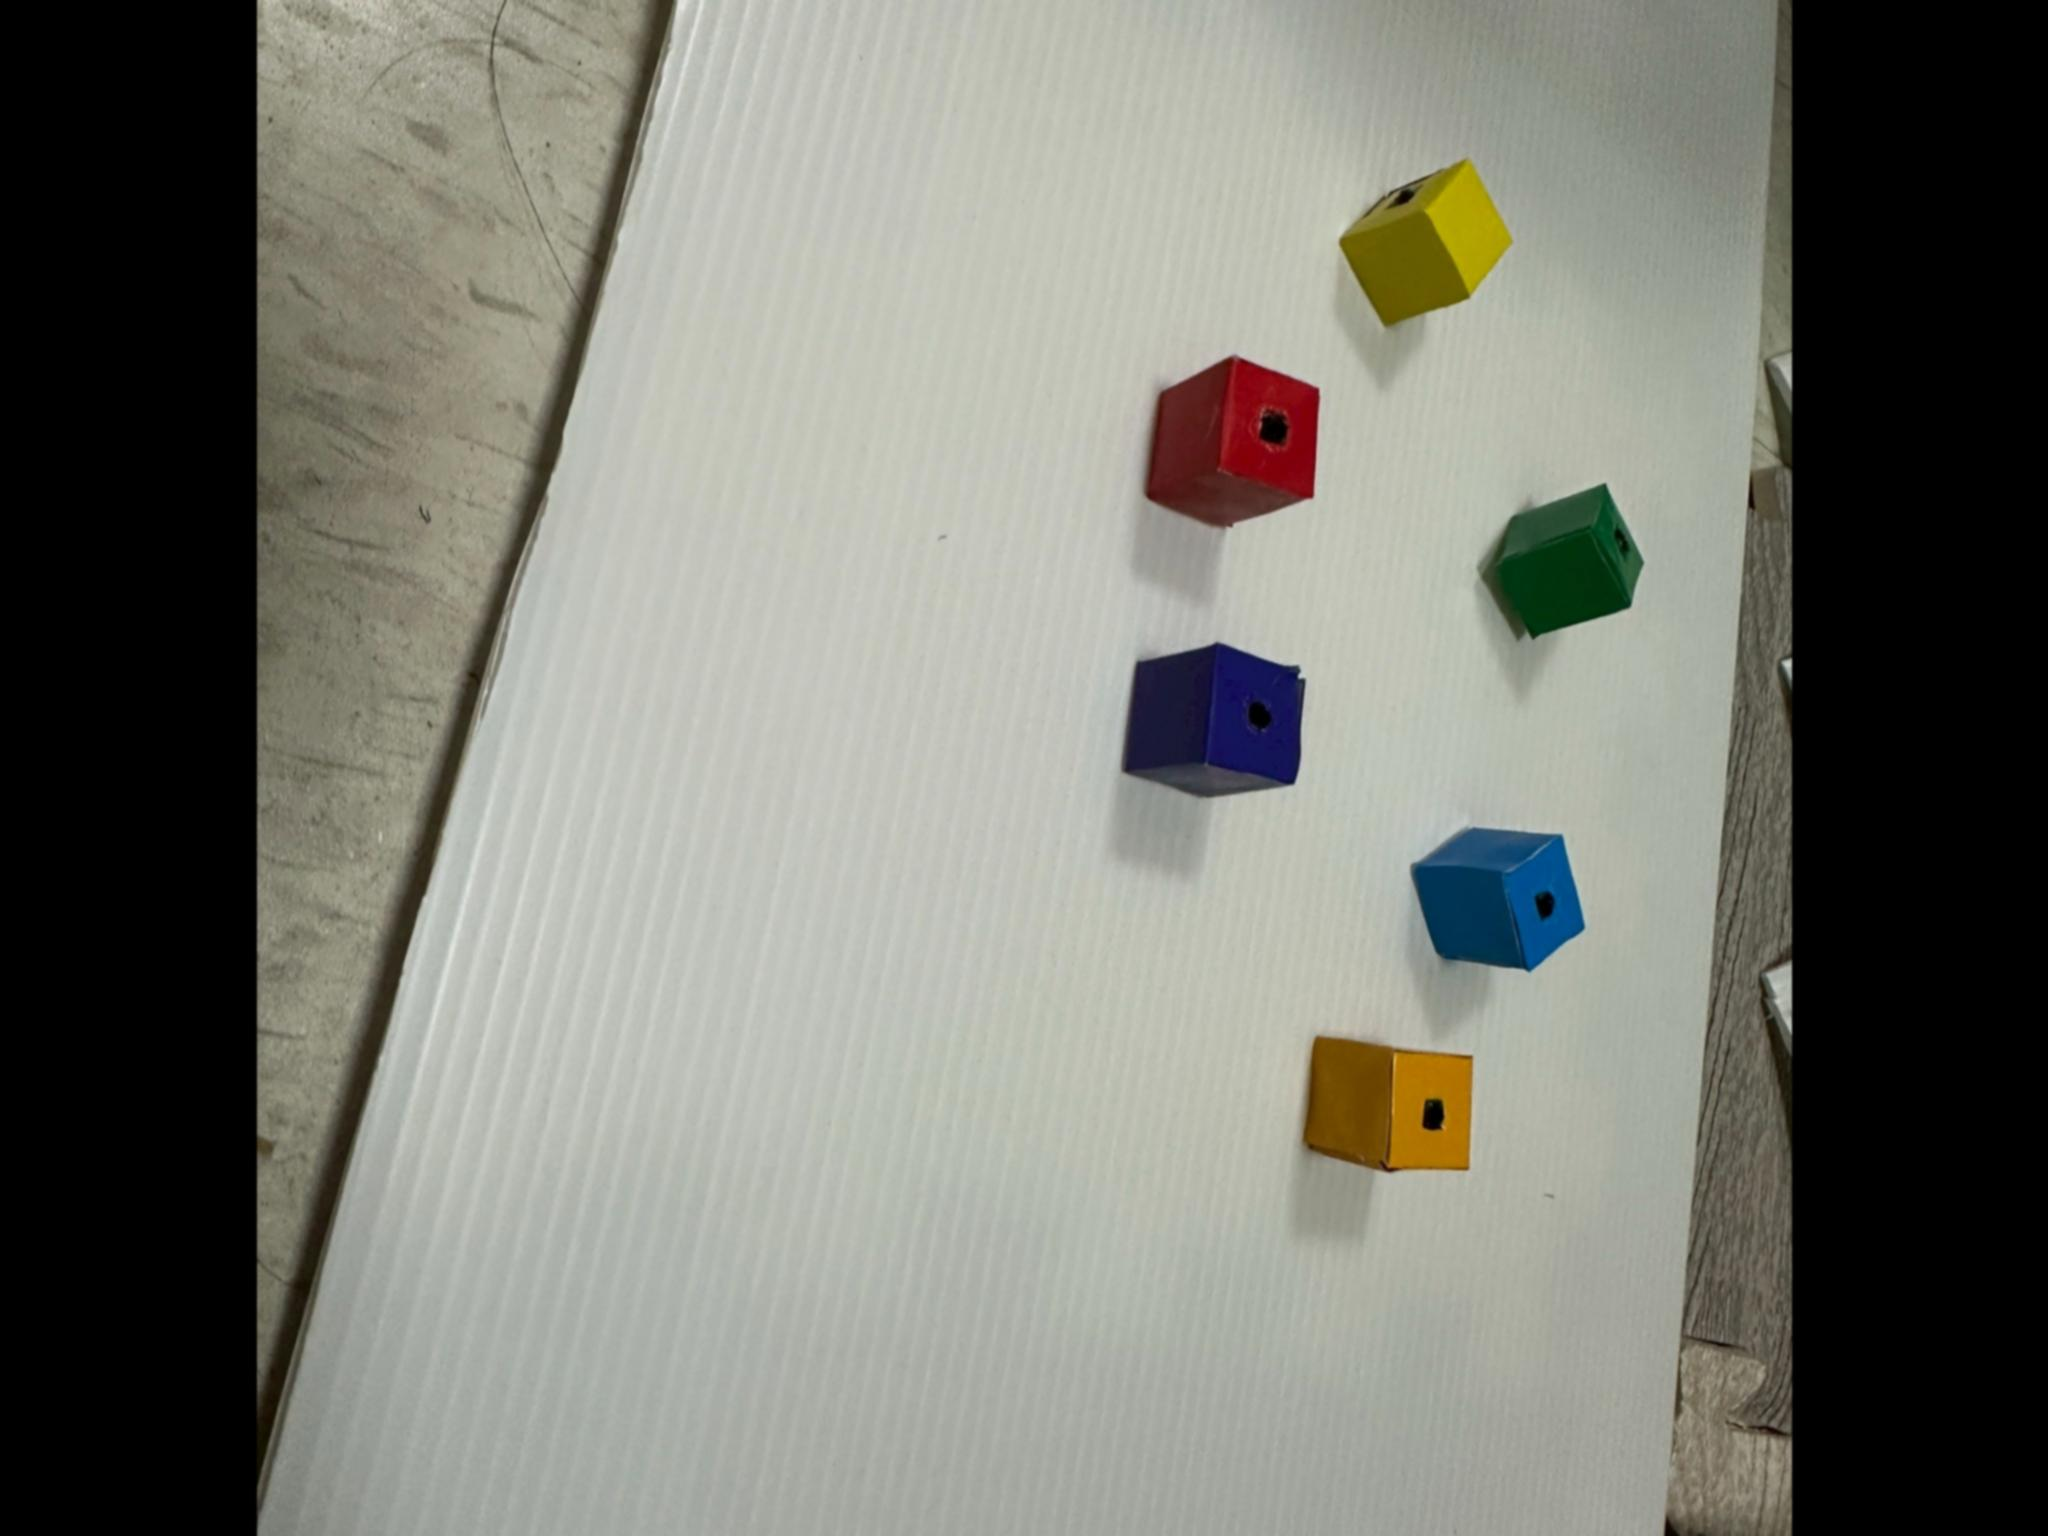base: (1147, 357, 1317, 526), (1340, 161, 1509, 324), (1495, 484, 1642, 636)
